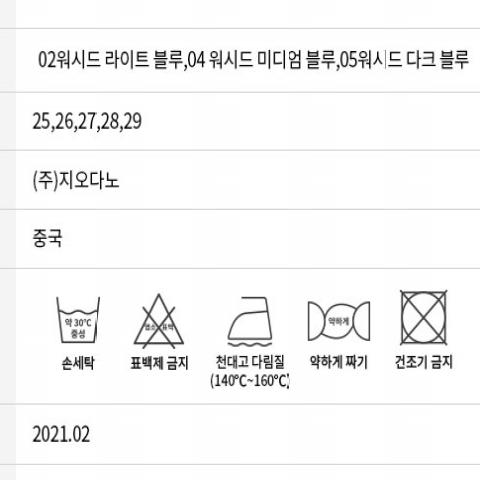30C: (50, 290, 108, 345)
DN_tumble_dry: (396, 286, 454, 347)
iron: (225, 294, 278, 344)
non_chlorine_bleach: (131, 289, 189, 348)
wring: (302, 294, 378, 347)
